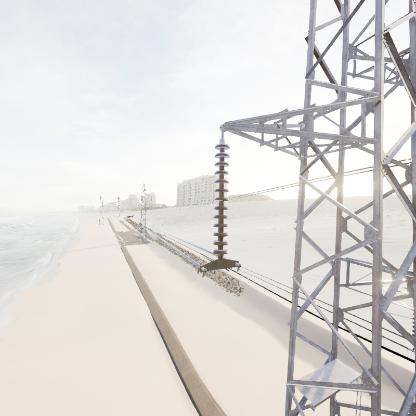insulator: (208, 141, 234, 262)
